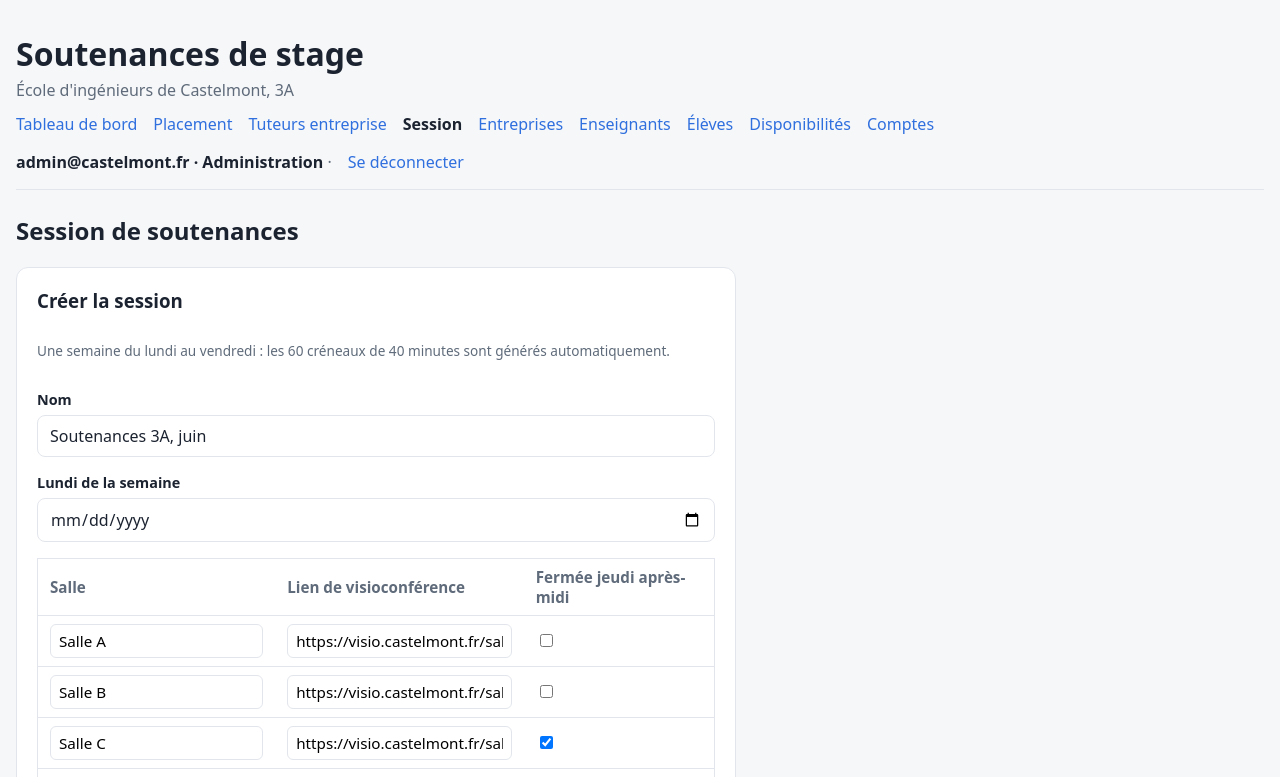
SessionPage › POSTs the name, the Monday and the rooms
Type "2027-06-21" into the date field labelled "Lundi de la semaine" at coordinates (376, 520), box [37,498,715,542]
(page scrolled)
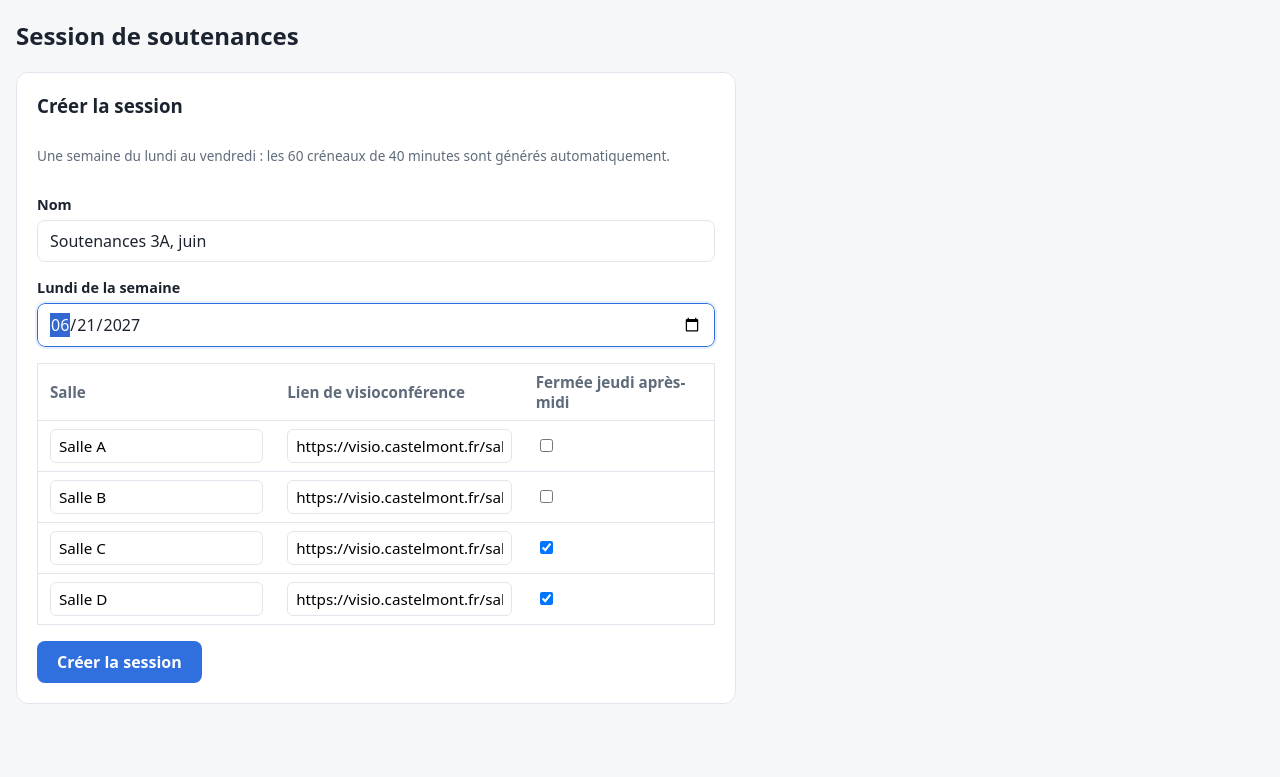
Click the button "Créer la session" at coordinates (119, 662), box [37,640,202,682]
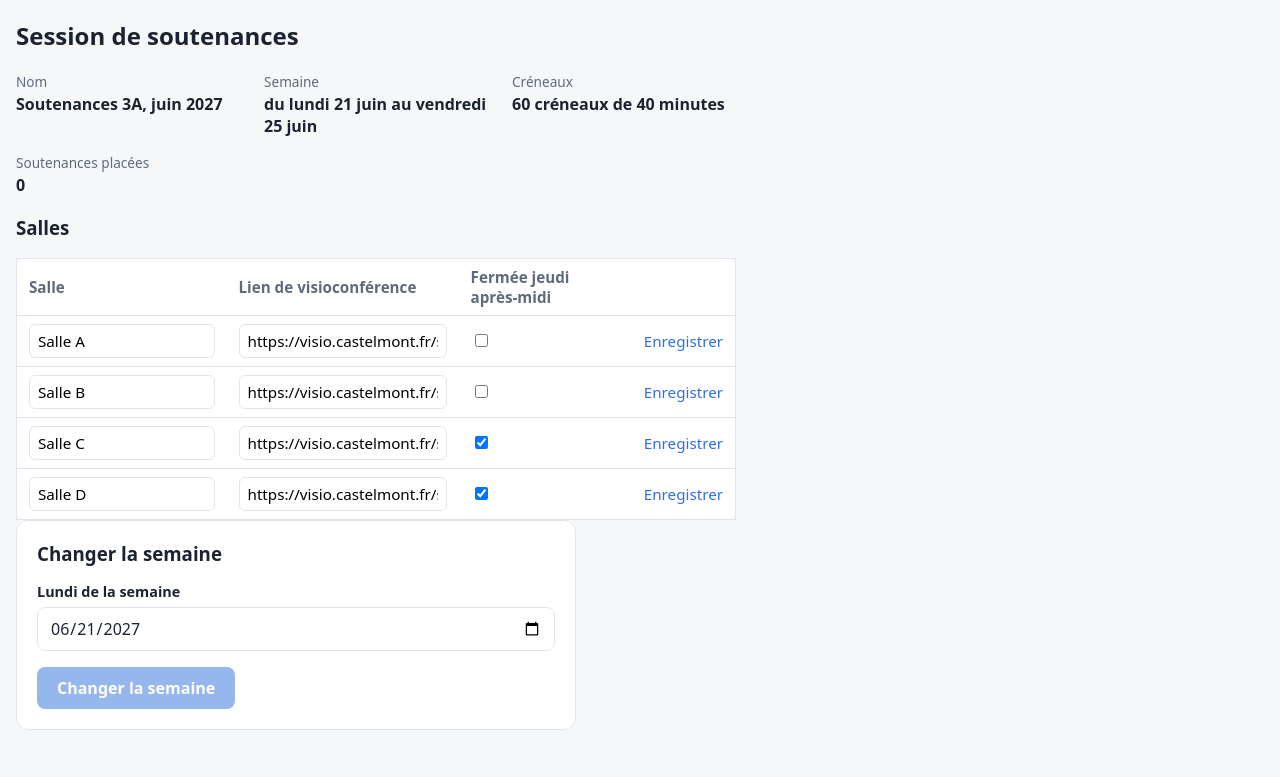
Check: the heading "Salles" is shown, box [16,215,69,240]
